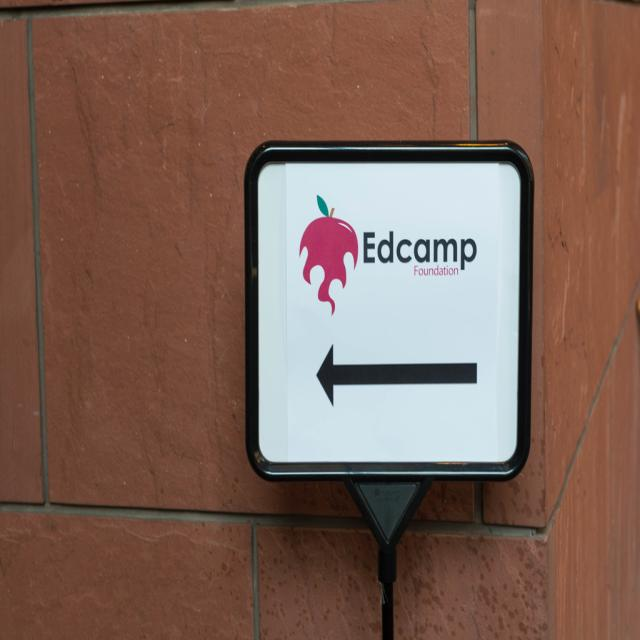Healty Apple: (298, 207, 358, 312)
